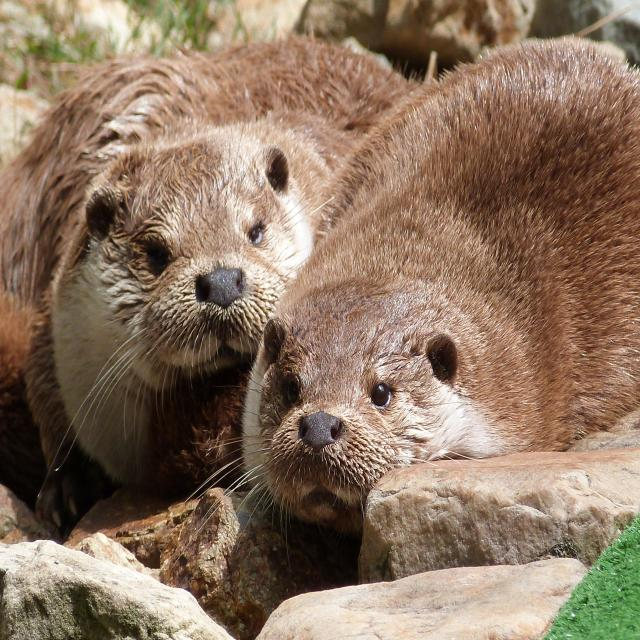otter: (241, 41, 640, 526), (53, 106, 311, 400)
